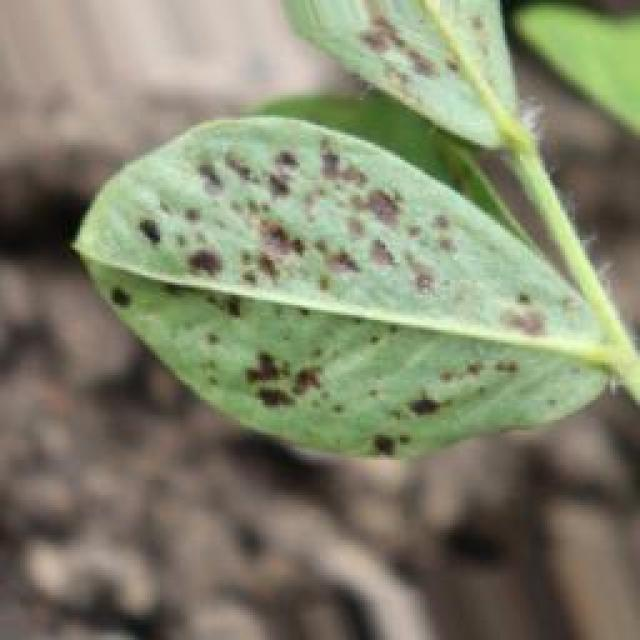Whitefly: (63, 84, 574, 481), (266, 0, 532, 166)
